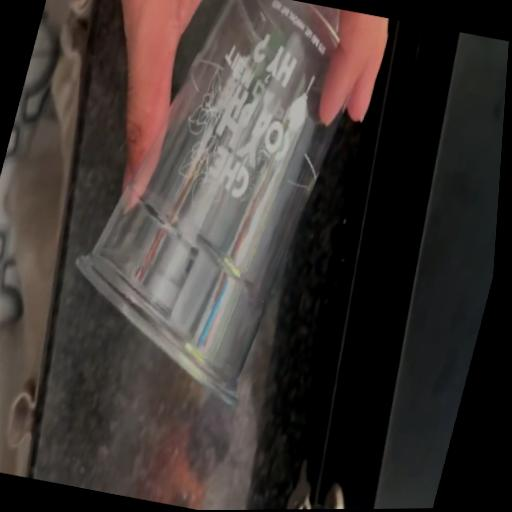ly_nhua: (77, 0, 339, 402)
